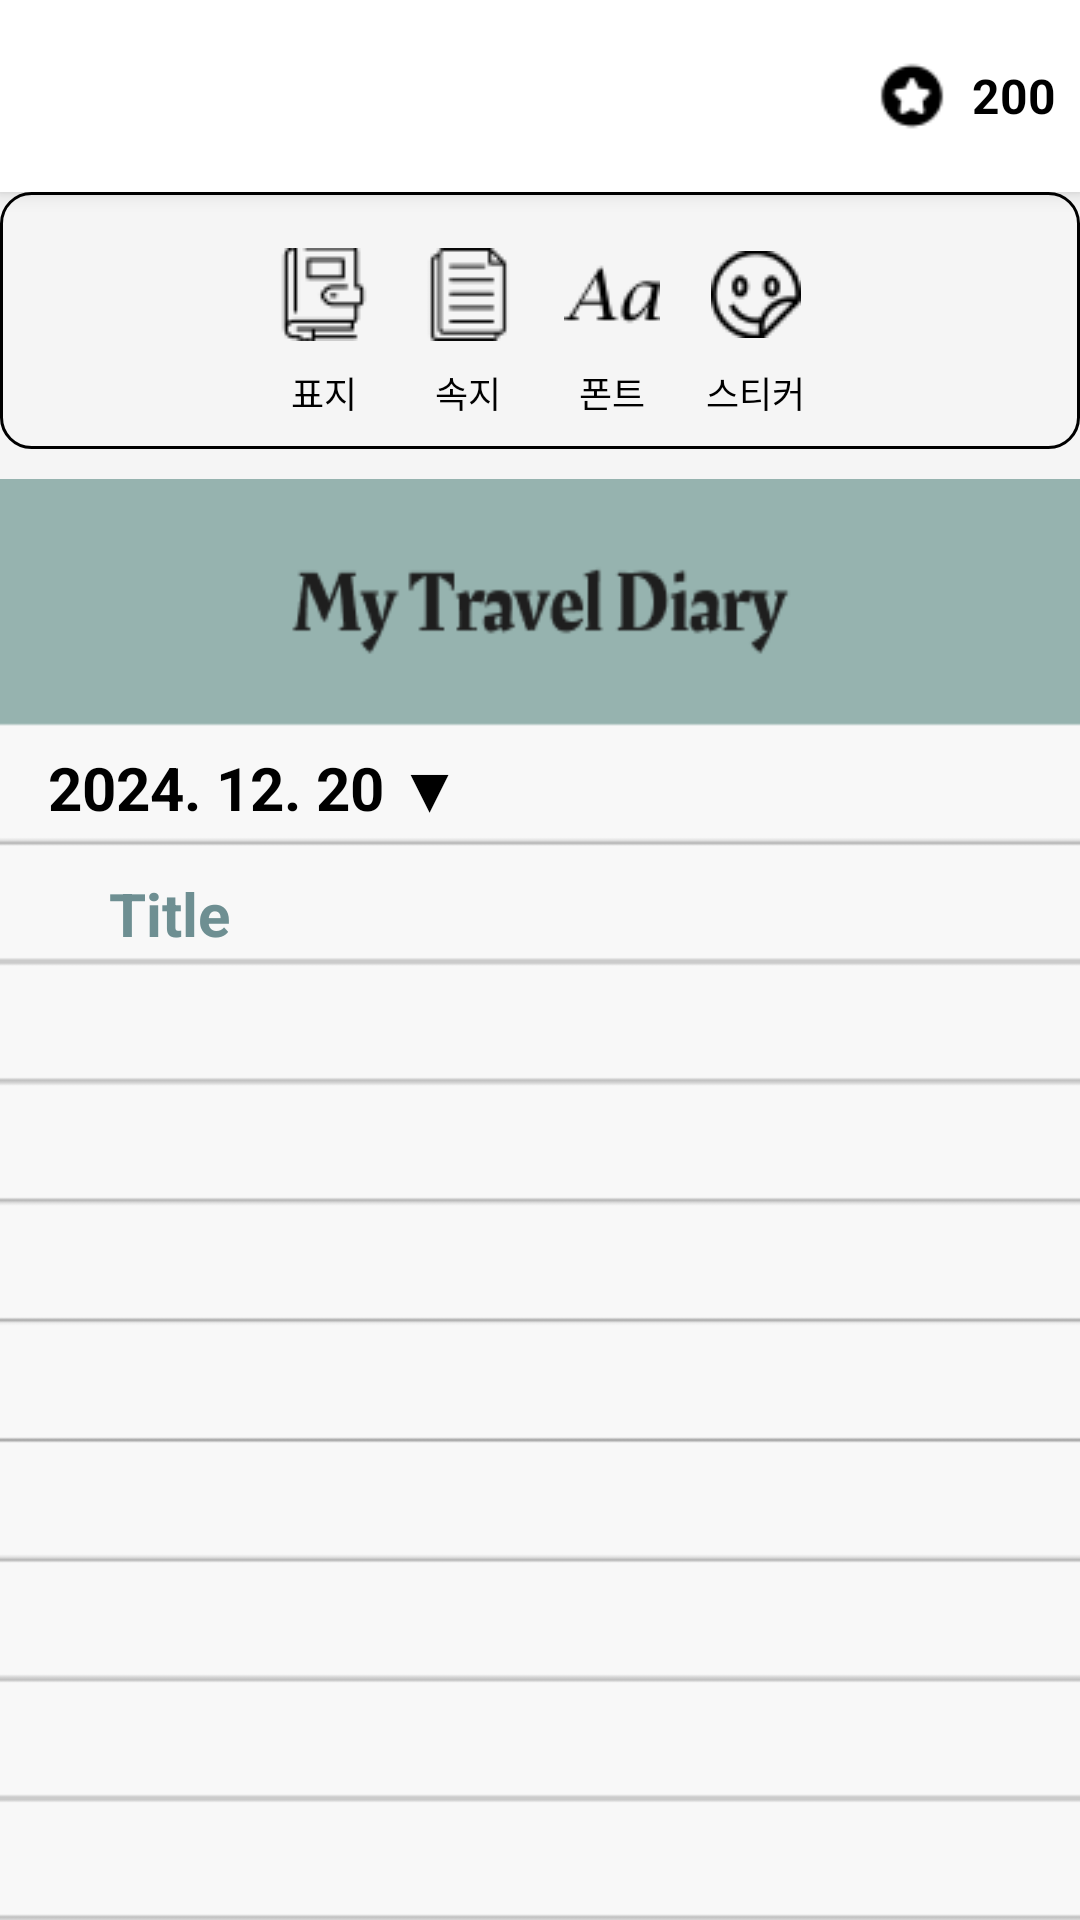

Where to tap for icons on this 1080×1920 app screen, as [x,y]:
coin: [912,96]
